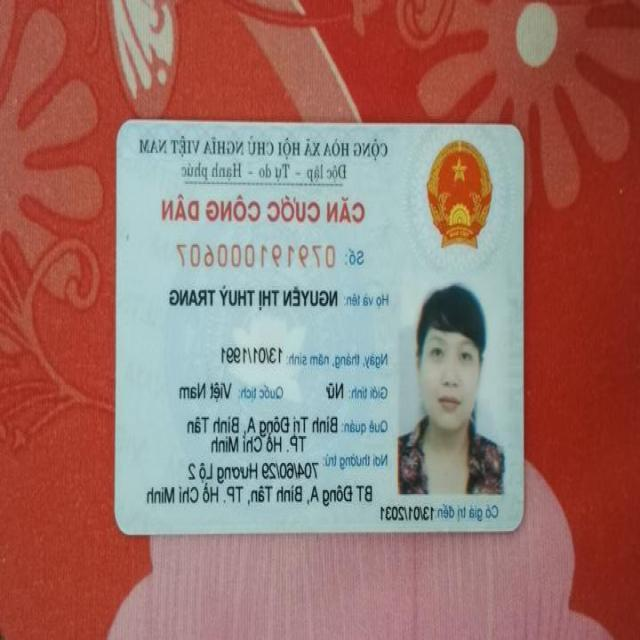bottom_left: (500, 506, 534, 543)
bottom_right: (104, 504, 144, 548)
image_person: (396, 279, 509, 495)
top_left: (497, 112, 538, 156)
top_right: (107, 110, 144, 148)
